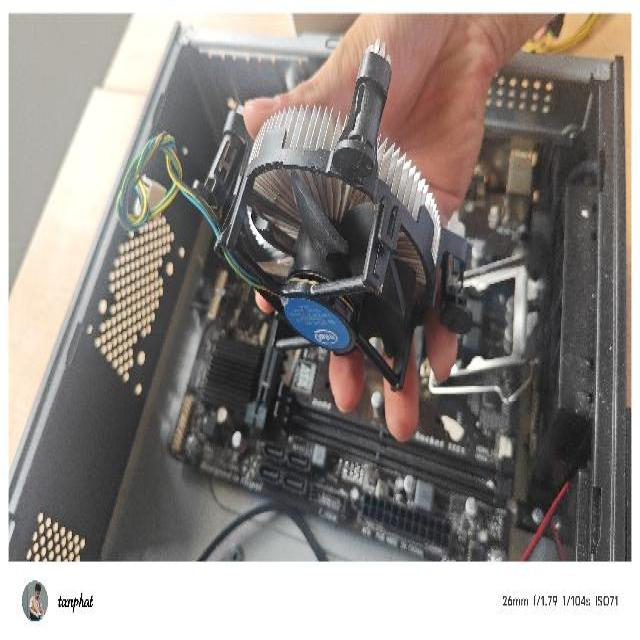CPU_Fan: (164, 36, 476, 394)
